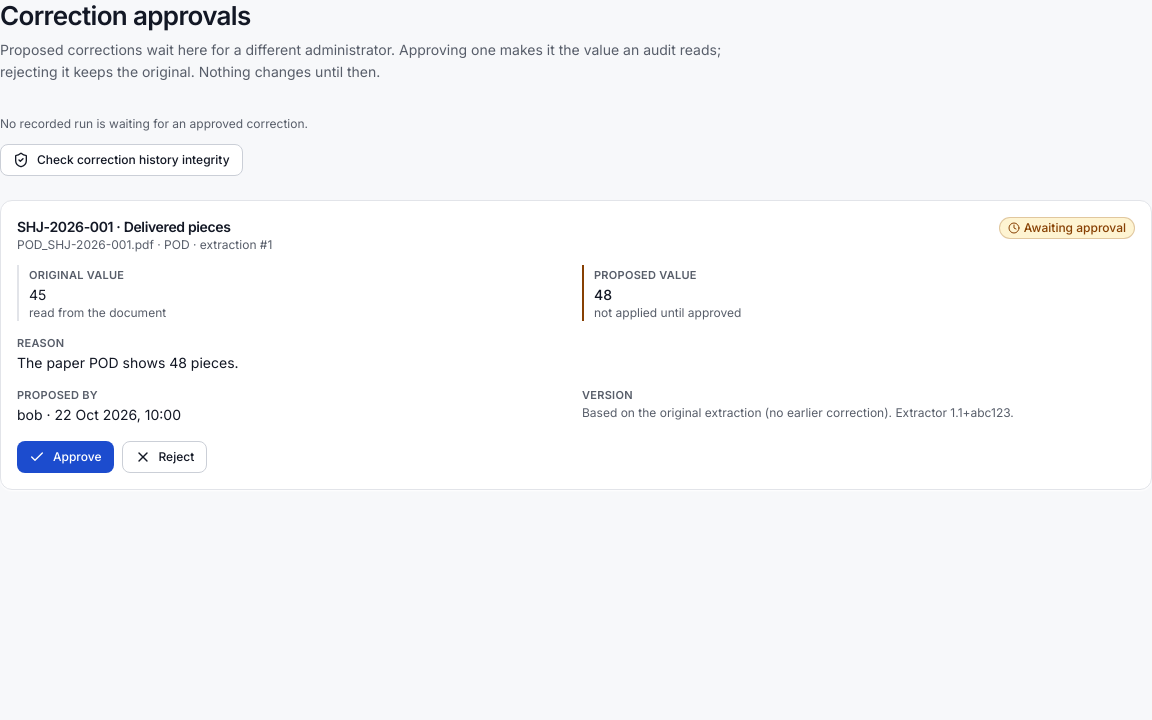
Scenario: the approval queue › shows a conflict (already decided) and refreshes the queue instead of the stale item
The image size is (1152, 720).
Click the button "Approve". click: (65, 457)
box: [17,441,114,473]
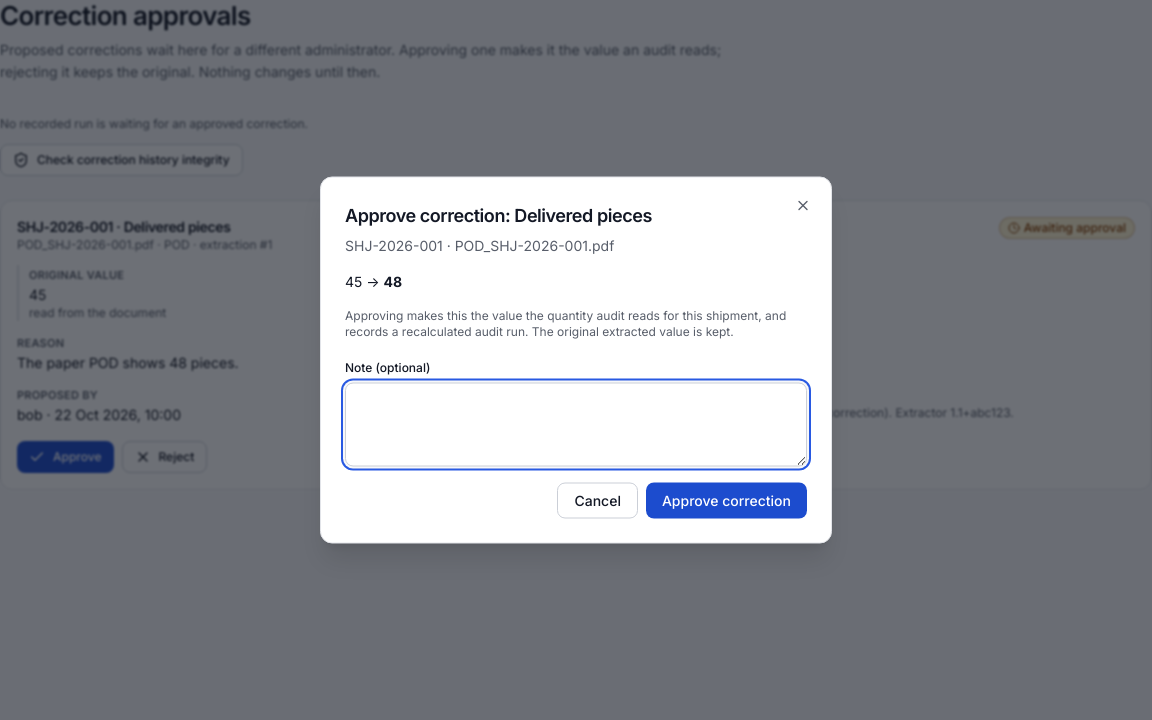
Click the button "Approve correction". click: (726, 500)
box: [646,482,807,518]
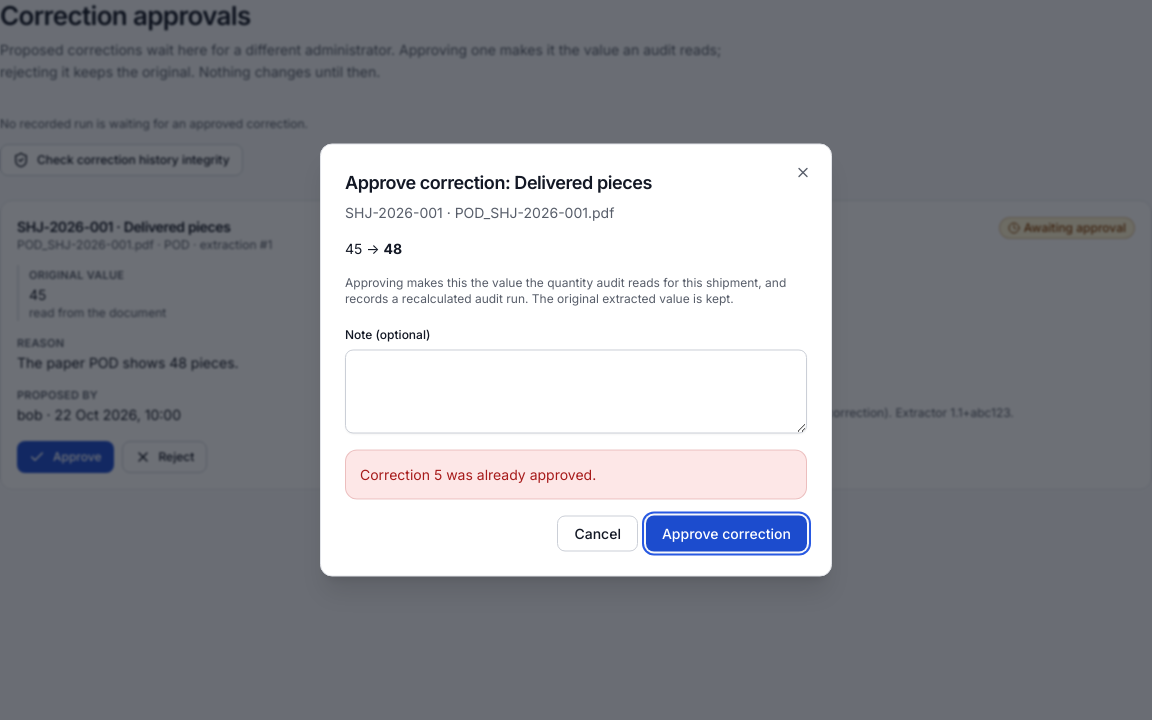
Expected: the text "Correction 5 was already approved." is shown, [360,464,596,484]
